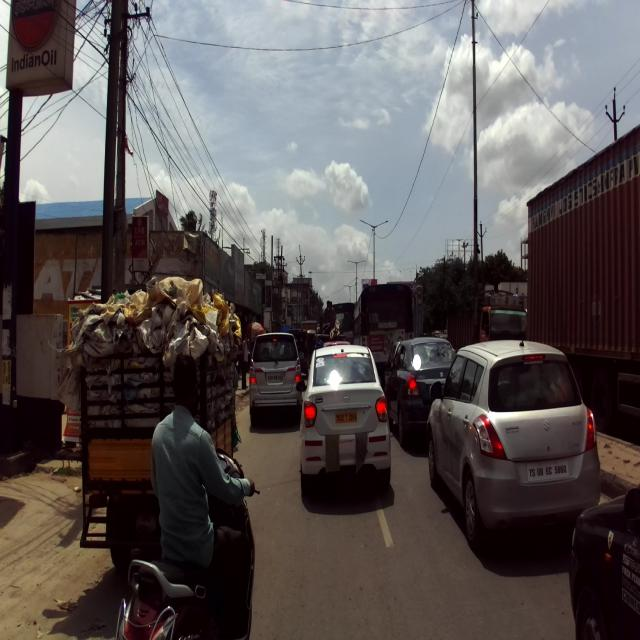autorickshaw: (55, 274, 242, 569)
car: (426, 338, 600, 552), (296, 345, 390, 492), (384, 336, 459, 446)
scooter: (115, 448, 261, 640)
truck: (527, 125, 640, 444)
